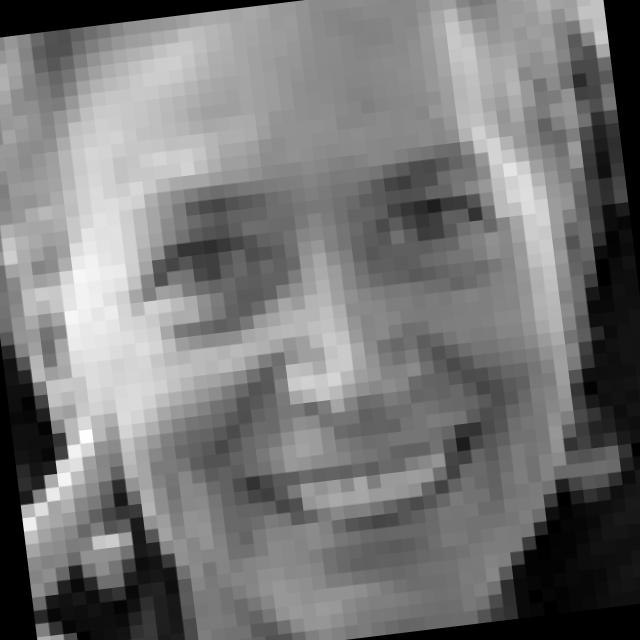happy: (100, 127, 567, 594)
